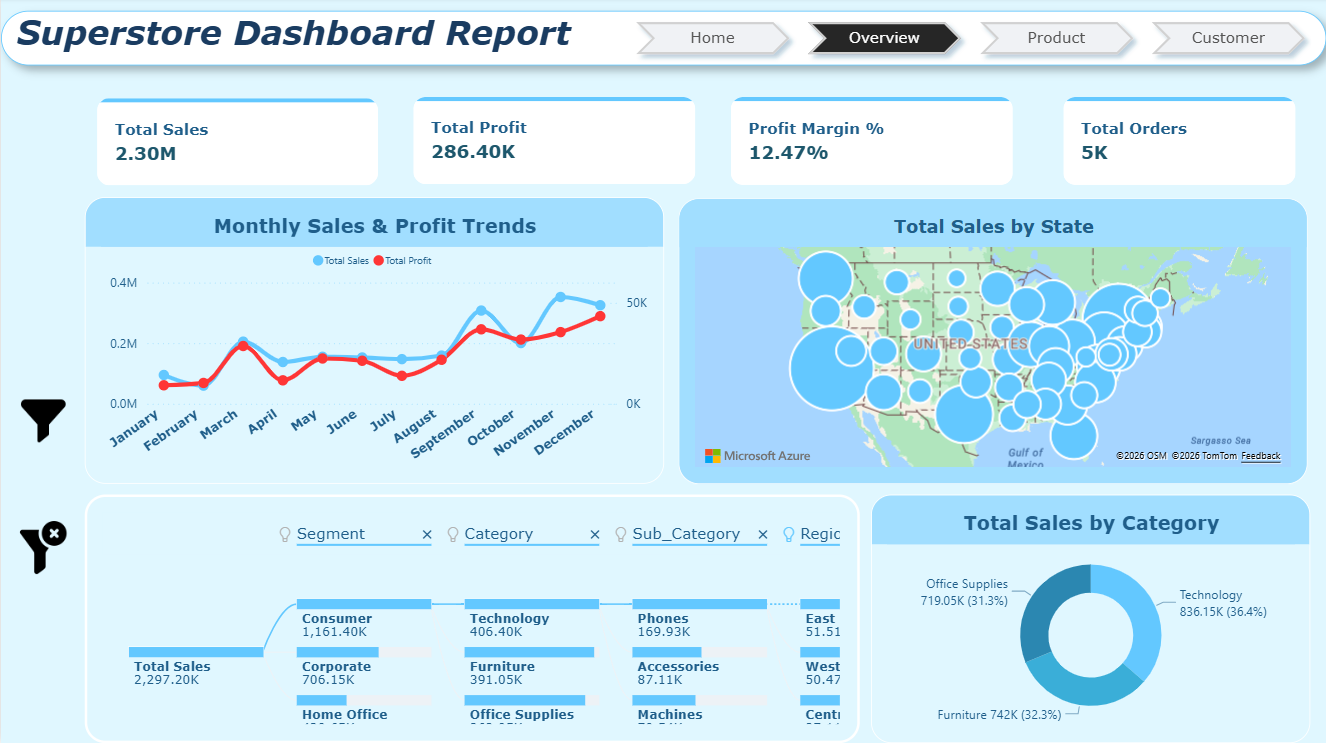

What the dashboard file says about the page in this screenshot:
{"tool":"powerbi","page":{"name":"Overview ","canvas":[1280,720],"ordinal":1},"visuals":[{"type":"textbox","box":[0,13.3,1278.8,53.1],"z":0},{"type":"pageNavigator","box":[588.7,0,691.3,79.6],"z":1000},{"type":"cardVisual","fields":{"Data":["Measure.Total Sales"]},"box":[81.1,85.6,295.6,108.9],"z":2000},{"type":"cardVisual","fields":{"Data":["Measure.Total Profit"]},"box":[385.6,84.4,296.7,108.9],"z":3000},{"type":"cardVisual","fields":{"Data":["Measure.Profit Margin %"]},"box":[692.5,84,296,109.5],"z":4000},{"type":"cardVisual","fields":{"Data":["Measure.Total Orders"]},"box":[1013,84,248,109.5],"z":5000},{"type":"lineChart","title":"Monthly Sales & Profit Trends","fields":{"Category":["DIM_Order_Date.Month Name"],"Y":["Measure.Total Sales"],"Y2":["Measure.Total Profit"]},"box":[81.1,193.3,558.9,276.7],"z":6000},{"type":"donutChart","fields":{"Category":["DIM_Products.Category"],"Y":["Measure.Total Sales"]},"box":[840,480,424.3,240],"z":7000},{"type":"decompositionTreeVisual","fields":{"Analyze":["Measure.Total Sales"],"ExplainBy":["DIM_Customers.Segment","DIM_Products.Category","DIM_Products.Sub_Category","DIM_Location.Region"]},"box":[81.1,480,747.8,240],"z":8000},{"type":"azureMap","fields":{"Size":["Measure.Total Sales"],"Category":["DIM_Location.State"]},"box":[654.3,194.3,607.1,275.7],"z":9000},{"type":"image","box":[0,360,81.7,96.7],"z":10000},{"type":"actionButton","box":[0,375,81.7,68.3],"z":11000},{"type":"image","box":[0,480,81.2,102.5],"z":12000},{"type":"actionButton","title":"Clear all Slicers","box":[0,500,81.2,62.5],"z":12500}]}

Visuals, with their boxes in screenshot pixels (x1, y1, x2, y2), scaled from the page's 1280x720 canvas onto the 1326x743 screenshot:
textbox: [x1=0, y1=14, x2=1325, y2=69]
pageNavigator: [x1=610, y1=0, x2=1325, y2=82]
cardVisual - Measure.Total Sales: [x1=84, y1=88, x2=390, y2=201]
cardVisual - Measure.Total Profit: [x1=399, y1=87, x2=707, y2=199]
cardVisual - Measure.Profit Margin %: [x1=717, y1=87, x2=1024, y2=200]
cardVisual - Measure.Total Orders: [x1=1049, y1=87, x2=1306, y2=200]
"Monthly Sales & Profit Trends" lineChart: [x1=84, y1=199, x2=663, y2=485]
donutChart - DIM_Products.Category x Measure.Total Sales: [x1=870, y1=495, x2=1310, y2=742]
decompositionTreeVisual - Measure.Total Sales x DIM_Customers.Segment: [x1=84, y1=495, x2=859, y2=742]
azureMap - Measure.Total Sales x DIM_Location.State: [x1=678, y1=201, x2=1307, y2=485]
image: [x1=0, y1=372, x2=85, y2=471]
actionButton: [x1=0, y1=387, x2=85, y2=457]
image: [x1=0, y1=495, x2=84, y2=601]
"Clear all Slicers" actionButton: [x1=0, y1=516, x2=84, y2=580]
